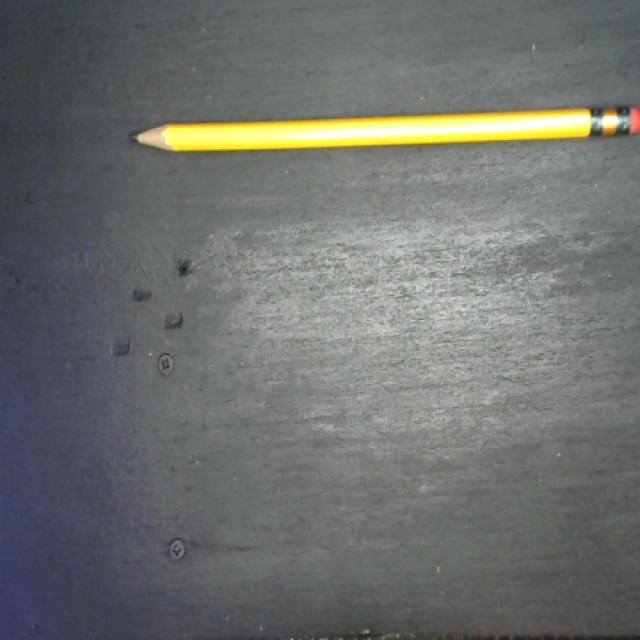biodegradable: (126, 100, 640, 155)
